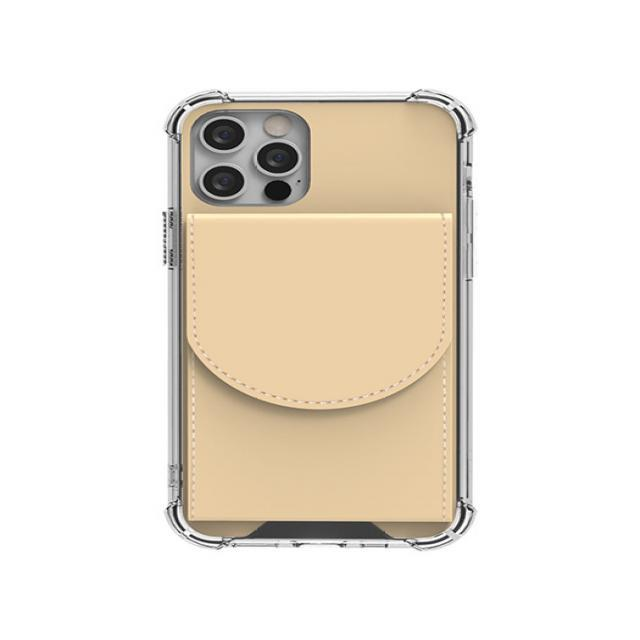phone: (164, 88, 475, 550)
